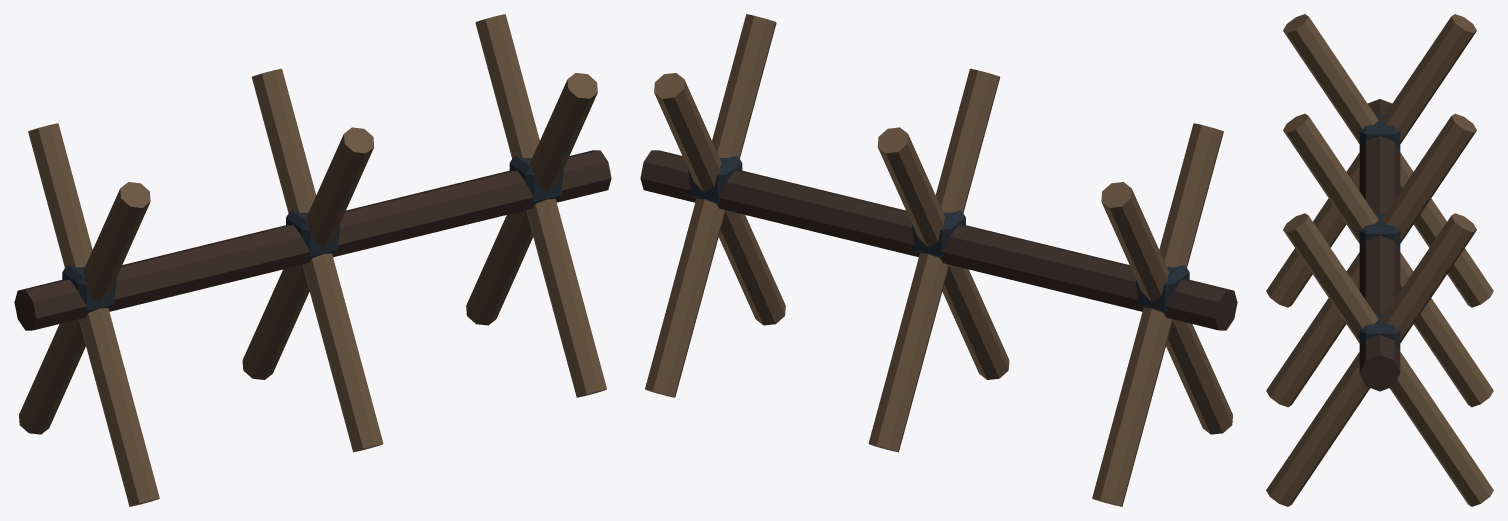
File: barricade.glb
3 views of the same model, side by side, from view 1: azimuth 30°, elevation 25°; view 2: azimuth 150°, elevation 25°; view 3: azimuth 270°, elevation 25° (orthographic). The views are drawn at different scales.
Visible parts, largest first — view 1: barricade; view 2: barricade; view 3: barricade.
Boxes of the visible parts, x1,y1,x2,y2 form: barricade: [14, 14, 611, 506]; barricade: [640, 14, 1237, 506]; barricade: [1266, 14, 1493, 506].
Bounding box in the file's own units: 3.6 × 1.89 × 1.35.
